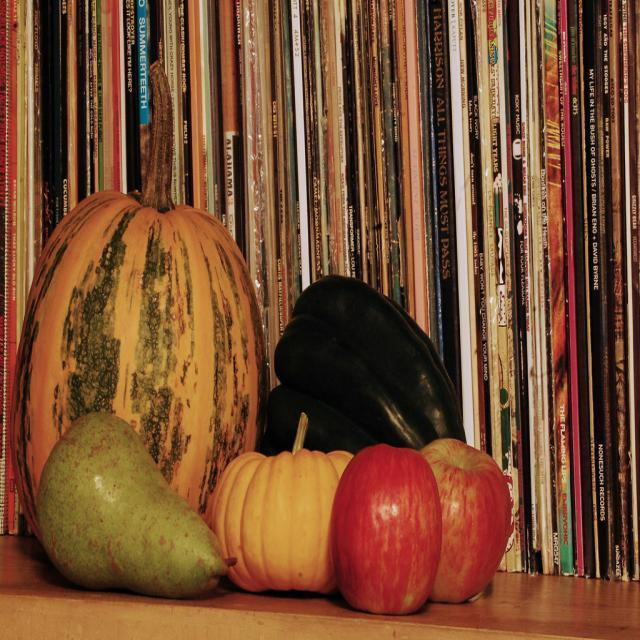Apple: (329, 446, 444, 615), (418, 432, 511, 604)
